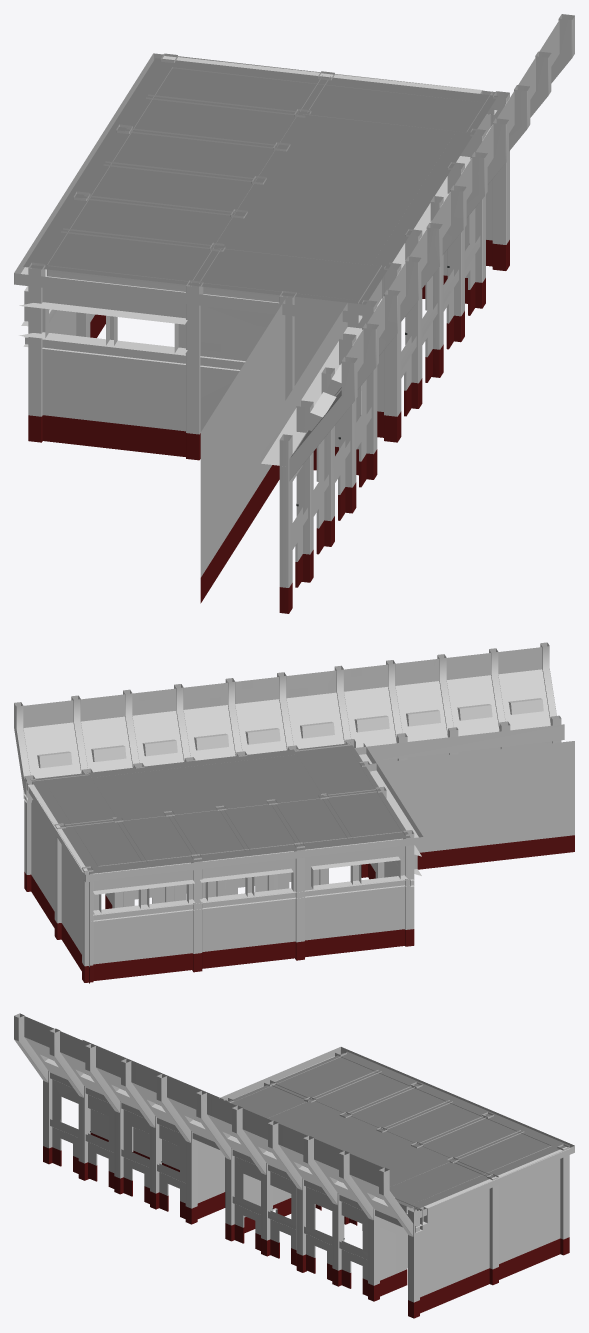
Rendered from SM_H_Building_Tide_Jail_D_02_ATLAS.fbx.
3 views of the same model, one above another, from view 1: azimuth 30°, elevation 25°; view 2: azimuth 150°, elevation 25°; view 3: azimuth 270°, elevation 25° (orthographic). The views are drawn at different scales.
Visible parts, largest first — view 1: SM_H_Building_Tide_Jail_D_02_ATLAS; view 2: SM_H_Building_Tide_Jail_D_02_ATLAS; view 3: SM_H_Building_Tide_Jail_D_02_ATLAS.
Boxes of the visible parts, box(x1,y1,x2,y2) form: SM_H_Building_Tide_Jail_D_02_ATLAS: box(14, 14, 574, 613); SM_H_Building_Tide_Jail_D_02_ATLAS: box(14, 642, 574, 983); SM_H_Building_Tide_Jail_D_02_ATLAS: box(14, 1013, 574, 1318).
Size of the model in its own units: 4744 by 6053 by 1905.
